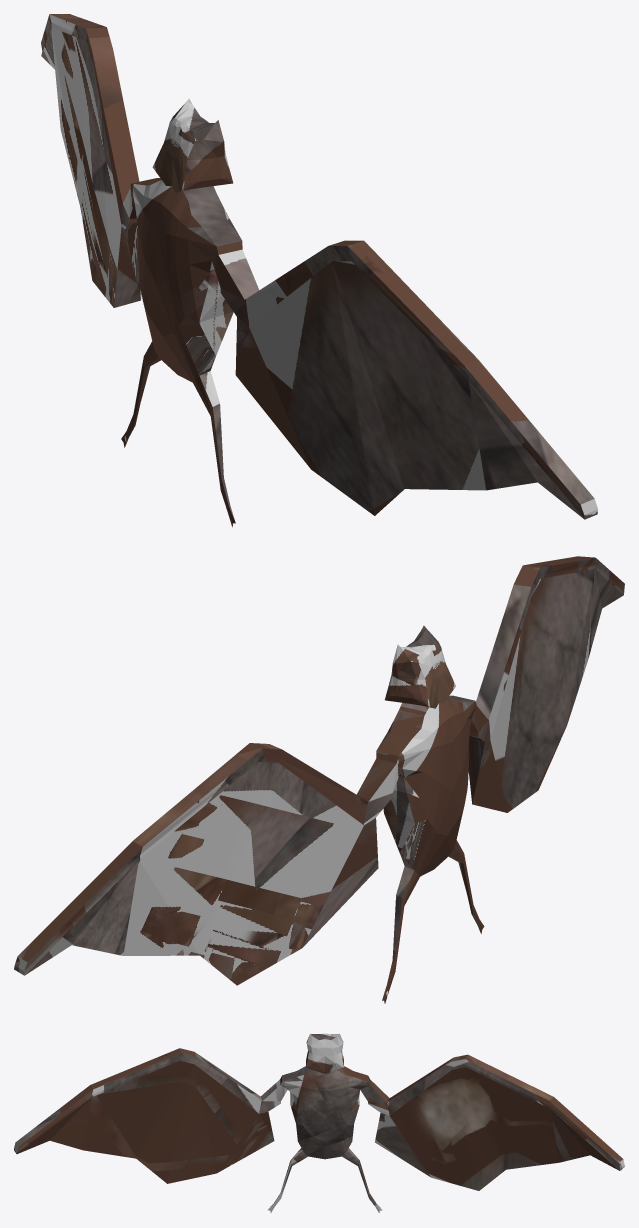
The model's file is Enemigo116.obj.
The picture shows the model from 3 angles, top to bottom: view 1: azimuth 30°, elevation 25°; view 2: azimuth 150°, elevation 25°; view 3: azimuth 270°, elevation 25°; orthographic projection. The views are drawn at different scales.
Visible parts, largest first — view 1: Plano; view 2: Plano; view 3: Plano.
Part boxes in pixels (left/top/right/bottom): Plano: left=41, top=14, right=597, bottom=527; Plano: left=14, top=556, right=624, bottom=1003; Plano: left=14, top=1033, right=624, bottom=1212.
Size of the model in its own units: 0.4279 by 0.7578 by 2.25.
1 material, 1 textured.
